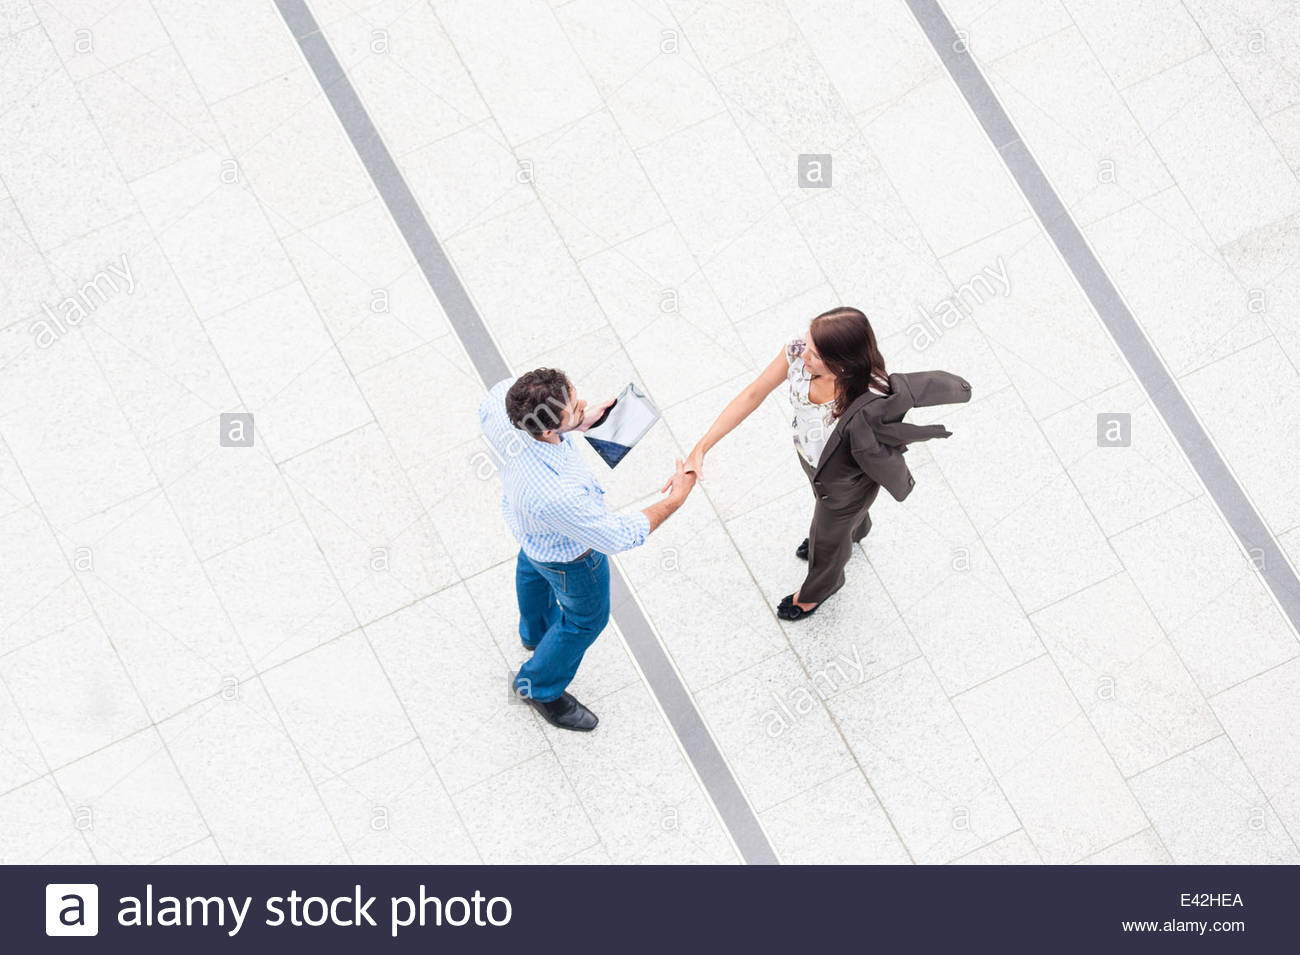Person: (462, 366, 700, 745), (671, 295, 903, 637)
